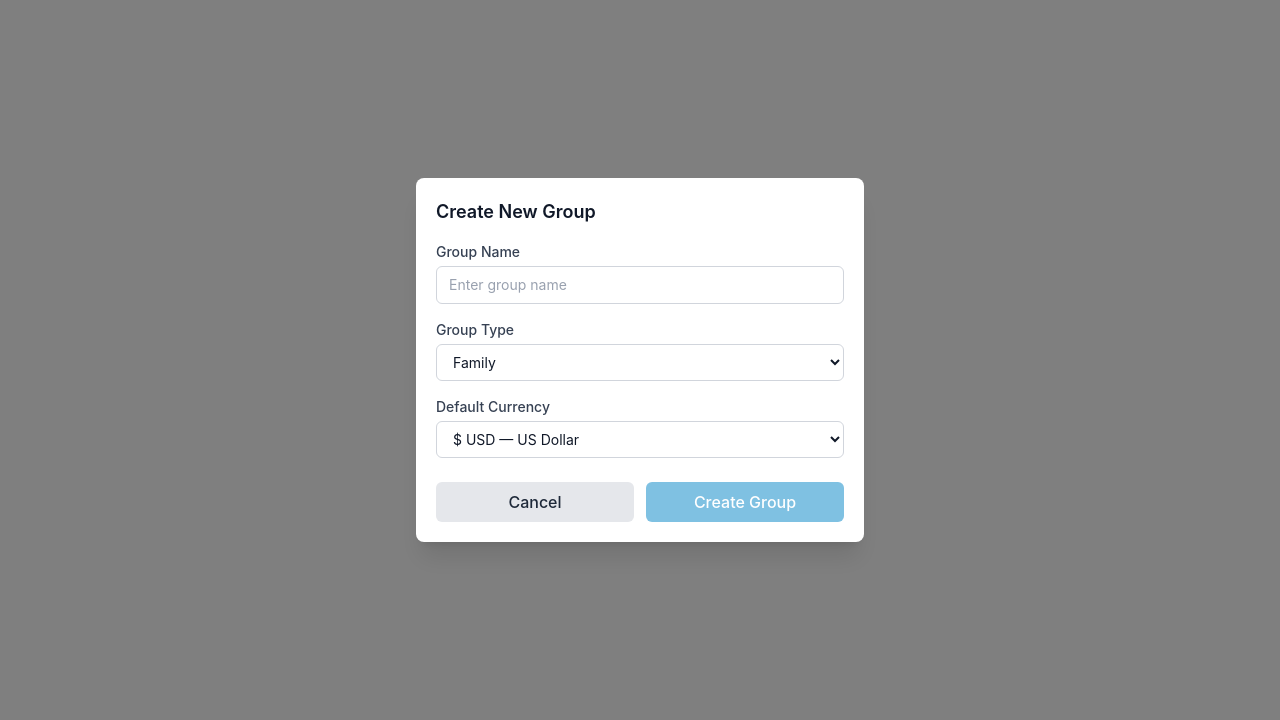
Test: CreateGroupDialog › enables create button once name is entered
In the field with test id "group-name-input": (640, 285) [436, 266, 844, 304], type "My Group"
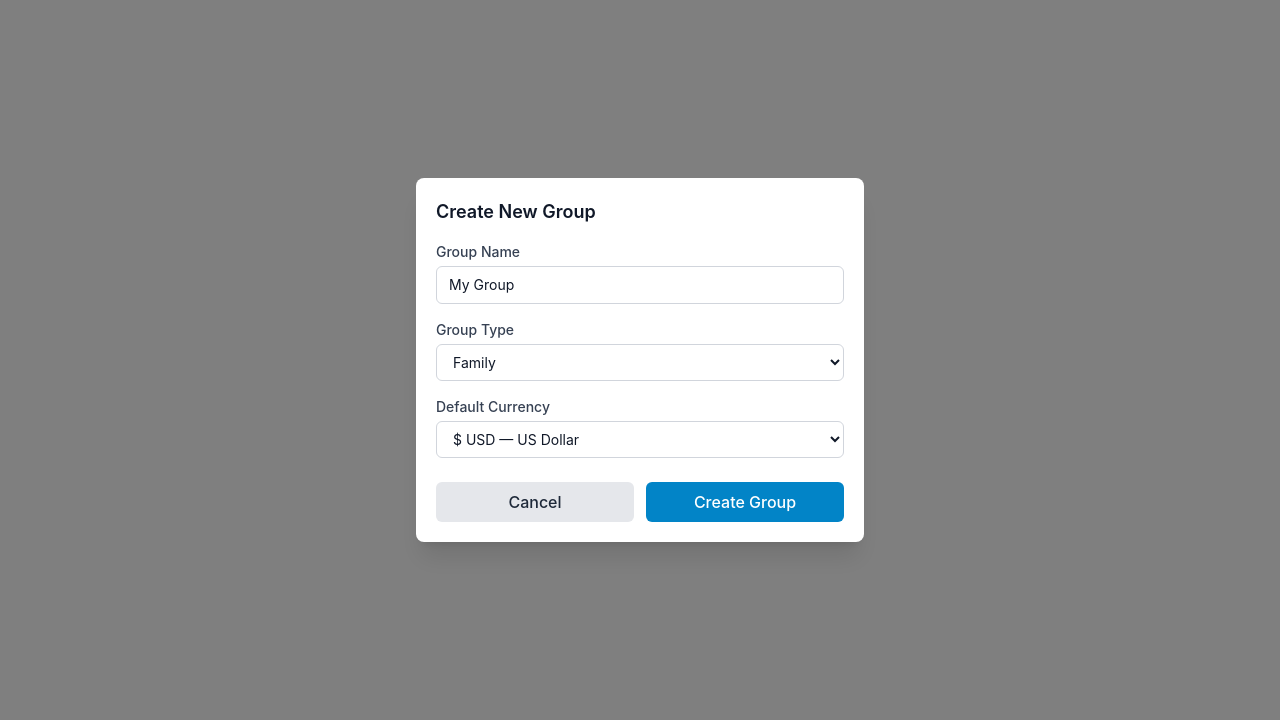
Result: the button with test id "confirm-create-group-btn" is enabled at [646, 482, 844, 522]
